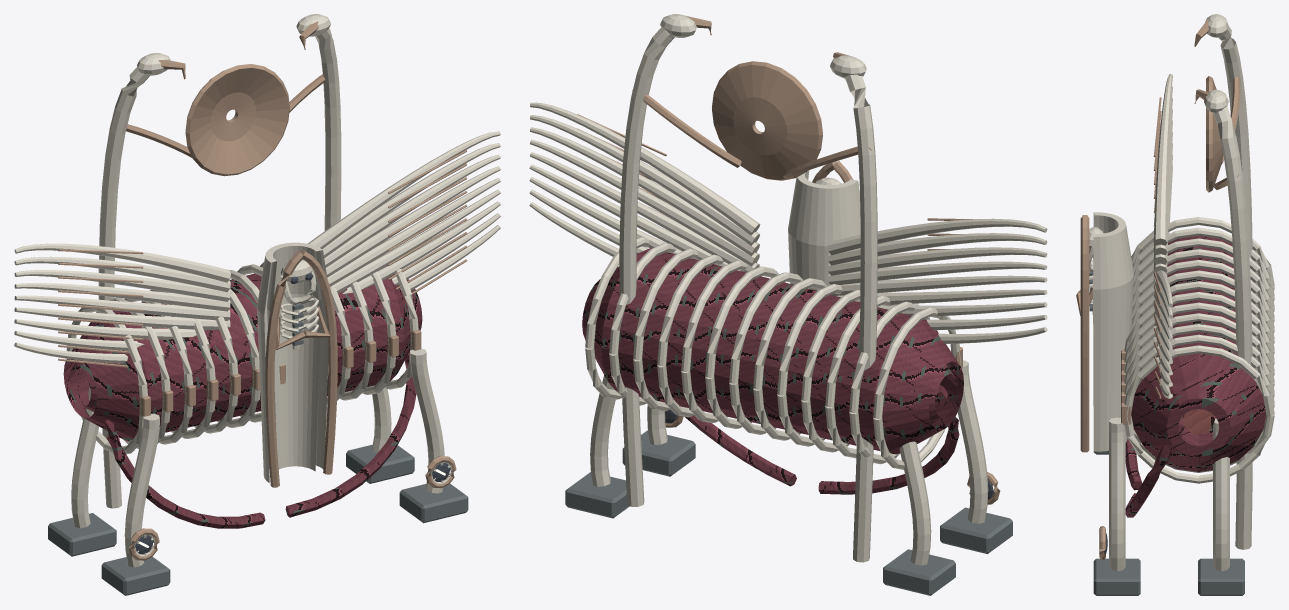
Rendered from processional_winged_sarcophagus.glb.
3 renders of one model, left to right at view 1: azimuth 30°, elevation 25°; view 2: azimuth 150°, elevation 25°; view 3: azimuth 270°, elevation 25°, orthographic. The views are drawn at different scales.
Visible parts, largest first — view 1: processional_winged_sarcophagus_warm, processional_winged_sarcophagus_worn, processional_winged_sarcophagus_bruised, processional_winged_sarcophagus_petrol; view 2: processional_winged_sarcophagus_warm, processional_winged_sarcophagus_bruised, processional_winged_sarcophagus_worn, processional_winged_sarcophagus_petrol; view 3: processional_winged_sarcophagus_warm, processional_winged_sarcophagus_bruised, processional_winged_sarcophagus_worn, processional_winged_sarcophagus_petrol, processional_winged_sarcophagus_suture.
Boxes of the visible parts, bbox=[...] form: processional_winged_sarcophagus_warm: bbox=[14, 14, 500, 567]; processional_winged_sarcophagus_worn: bbox=[58, 21, 467, 560]; processional_winged_sarcophagus_bruised: bbox=[63, 265, 422, 528]; processional_winged_sarcophagus_petrol: bbox=[48, 303, 468, 595]; processional_winged_sarcophagus_warm: bbox=[529, 14, 1047, 565]; processional_winged_sarcophagus_bruised: bbox=[582, 248, 963, 494]; processional_winged_sarcophagus_worn: bbox=[577, 15, 1000, 504]; processional_winged_sarcophagus_petrol: bbox=[565, 430, 1012, 595]; processional_winged_sarcophagus_warm: bbox=[1089, 14, 1274, 571]; processional_winged_sarcophagus_bruised: bbox=[1125, 235, 1266, 517]; processional_winged_sarcophagus_worn: bbox=[1076, 19, 1240, 559]; processional_winged_sarcophagus_petrol: bbox=[1089, 271, 1244, 595]; processional_winged_sarcophagus_suture: bbox=[1182, 409, 1214, 433].
Bounding box in the file's own units: 7.43 × 6.93 × 2.71.
Materials: 7 (2 with a texture image).
